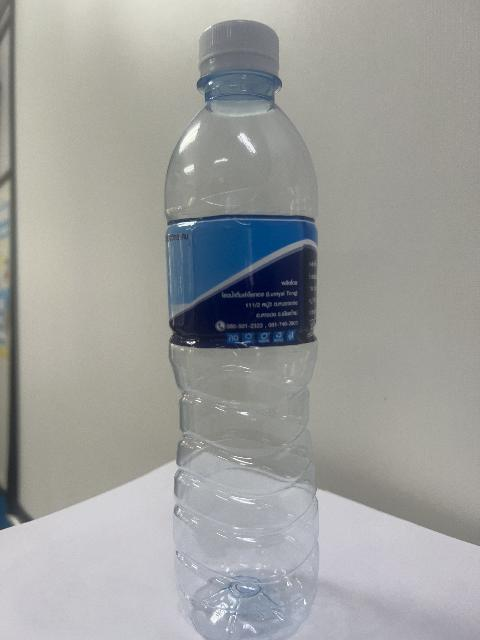bottle: (166, 21, 318, 639)
